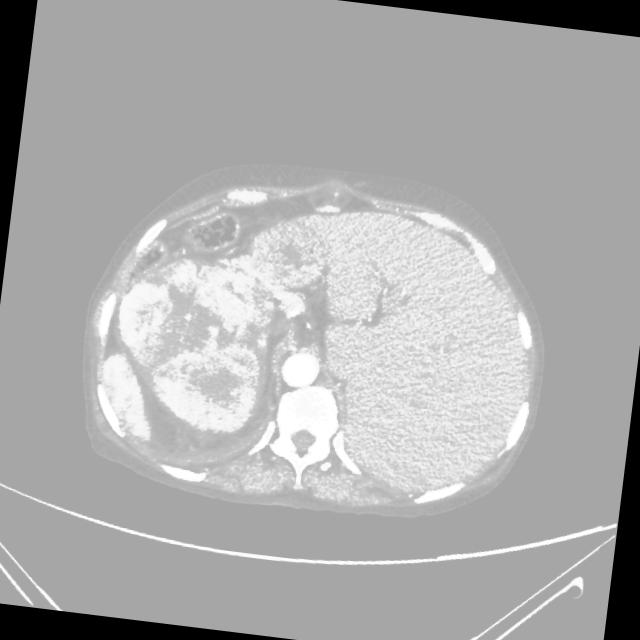TUMOR: (77, 246, 282, 473)
